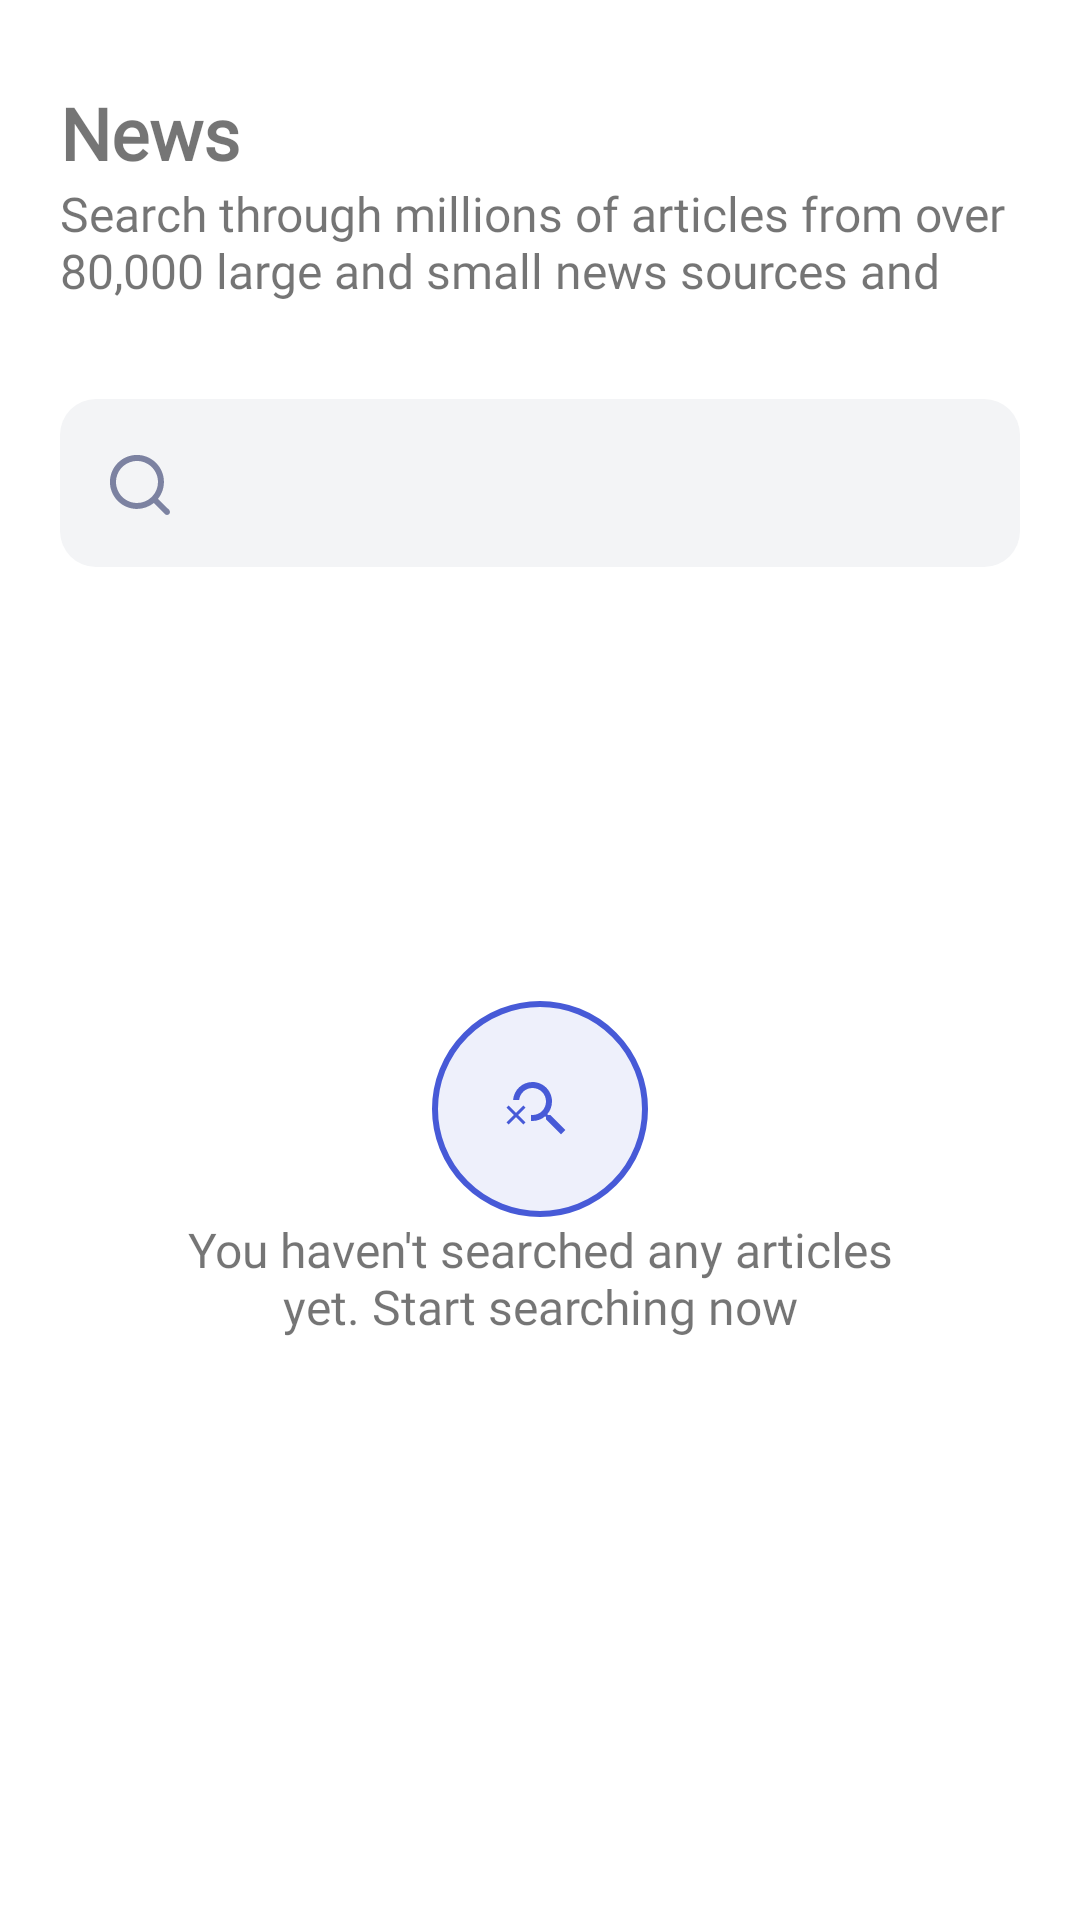

Icon click points for this 1080*1920 phone screenshot, format point (x, y):
search off: point (535, 1108)
